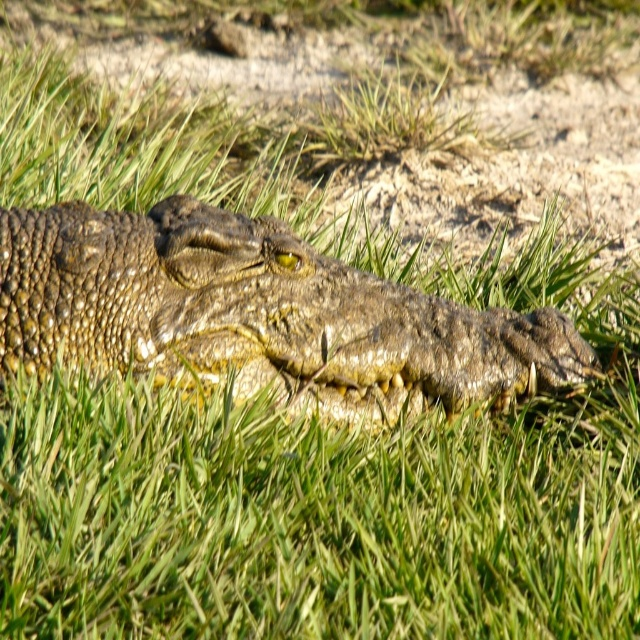Crocodile: (0, 194, 603, 438)
